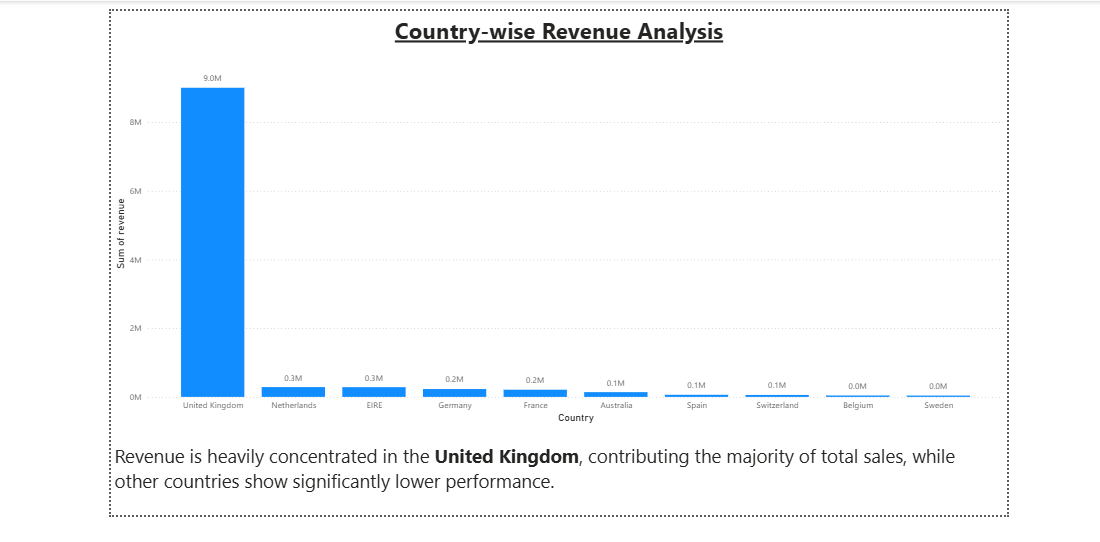

What the dashboard file says about the page in this screenshot:
{"tool":"powerbi","page":{"name":"Page 1","canvas":[1280,720],"ordinal":0},"visuals":[{"type":"clusteredColumnChart","title":"Top 10 Countries by Revenue","fields":{"Y":["Sum(Revenue by country.revenue)"],"Category":["Revenue by country.Country"]},"box":[0,51.4,1280,542.9],"z":0},{"type":"textbox","box":[0,594.3,1280,125.7],"z":1000},{"type":"textbox","box":[0,0,1280,90],"z":2000}]}

Visuals, with their boxes on the page's 1280x720 design canvas (x1, y1, x2, y2). These are canvas units, not pixel positions in the 1100x542 screenshot, which may show the page scaled, cropped or inside an application window:
"Top 10 Countries by Revenue" clusteredColumnChart: locate(0, 51, 1280, 594)
textbox: locate(0, 594, 1280, 720)
textbox: locate(0, 0, 1280, 90)
